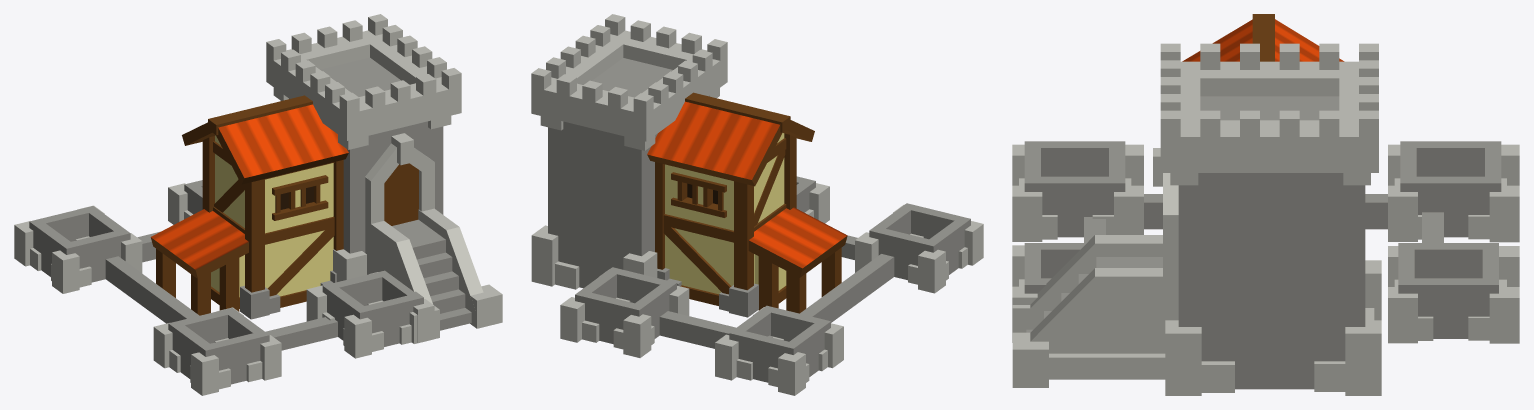
The model's file is SmallerKeep.fbx.
3 views of the same model, side by side, from view 1: azimuth 30°, elevation 25°; view 2: azimuth 150°, elevation 25°; view 3: azimuth 270°, elevation 25° (orthographic). The views are drawn at different scales.
Parts seen in each view (by area): view 1: keep0:polySurface1; view 2: keep0:polySurface1; view 3: keep0:polySurface1.
Part boxes in pixels (x1,y1,x2,y2): keep0:polySurface1: (14,14,502,395); keep0:polySurface1: (531,14,983,395); keep0:polySurface1: (1012,14,1519,395).
Size of the model in its own units: 247 by 162 by 256.
1 material, 1 textured.
